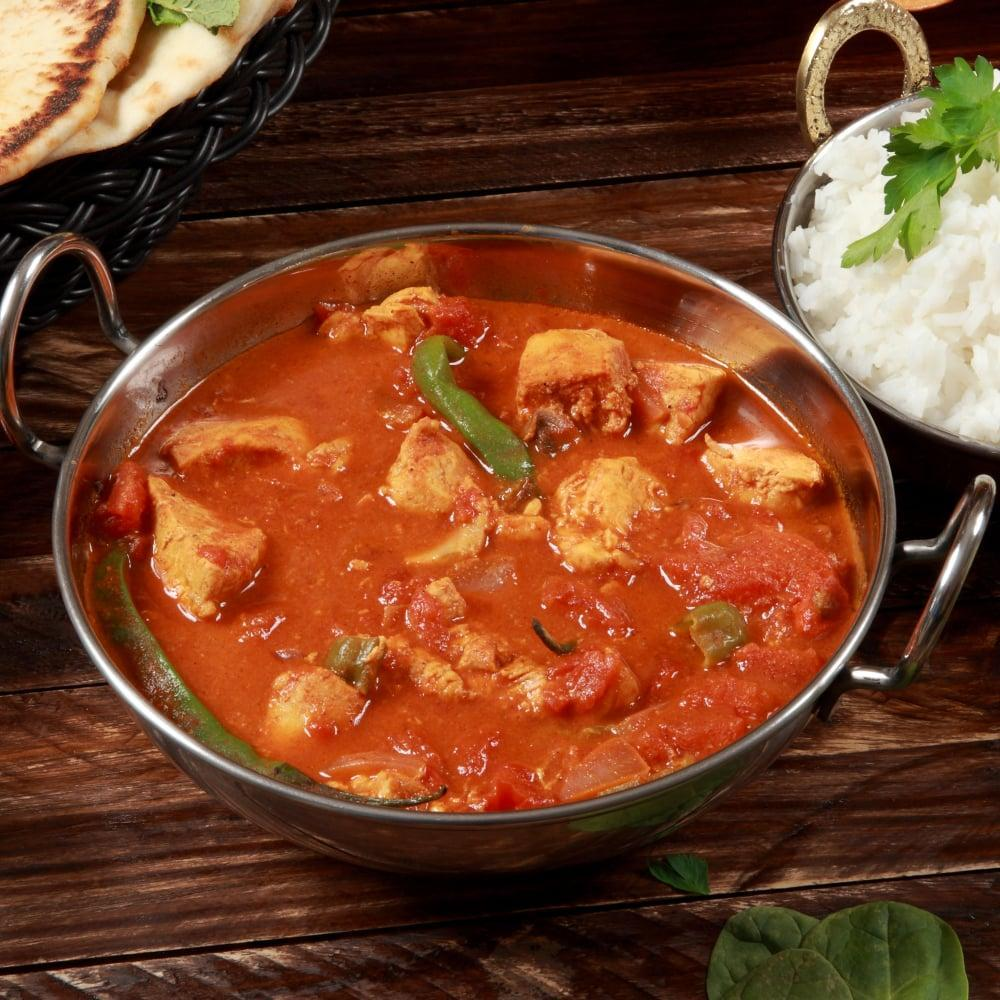chicken: (130, 279, 862, 812)
